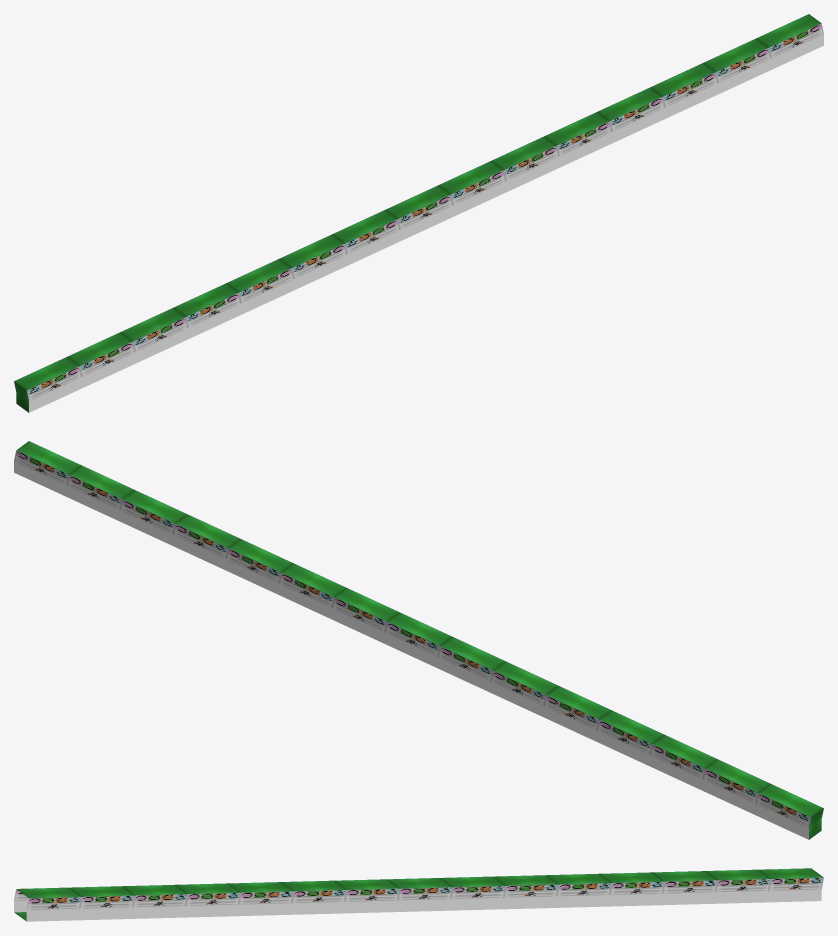
The model's file is CourseSpring_Box_Wall_R_11.fbx.
3 views of the same model, one above another, from view 1: azimuth 90°, elevation 25°; view 2: azimuth 210°, elevation 25°; view 3: azimuth 270°, elevation 25° (orthographic).
Visible parts, largest first — view 1: polySurface64; view 2: polySurface64; view 3: polySurface64.
Part boxes in pixels (x1,y1,x2,y2): polySurface64: (14,14,823,412); polySurface64: (14,441,823,839); polySurface64: (14,868,823,921).
Size of the model in its own units: 37.83 by 16.98 by 63.53.
1 material, 1 textured.
